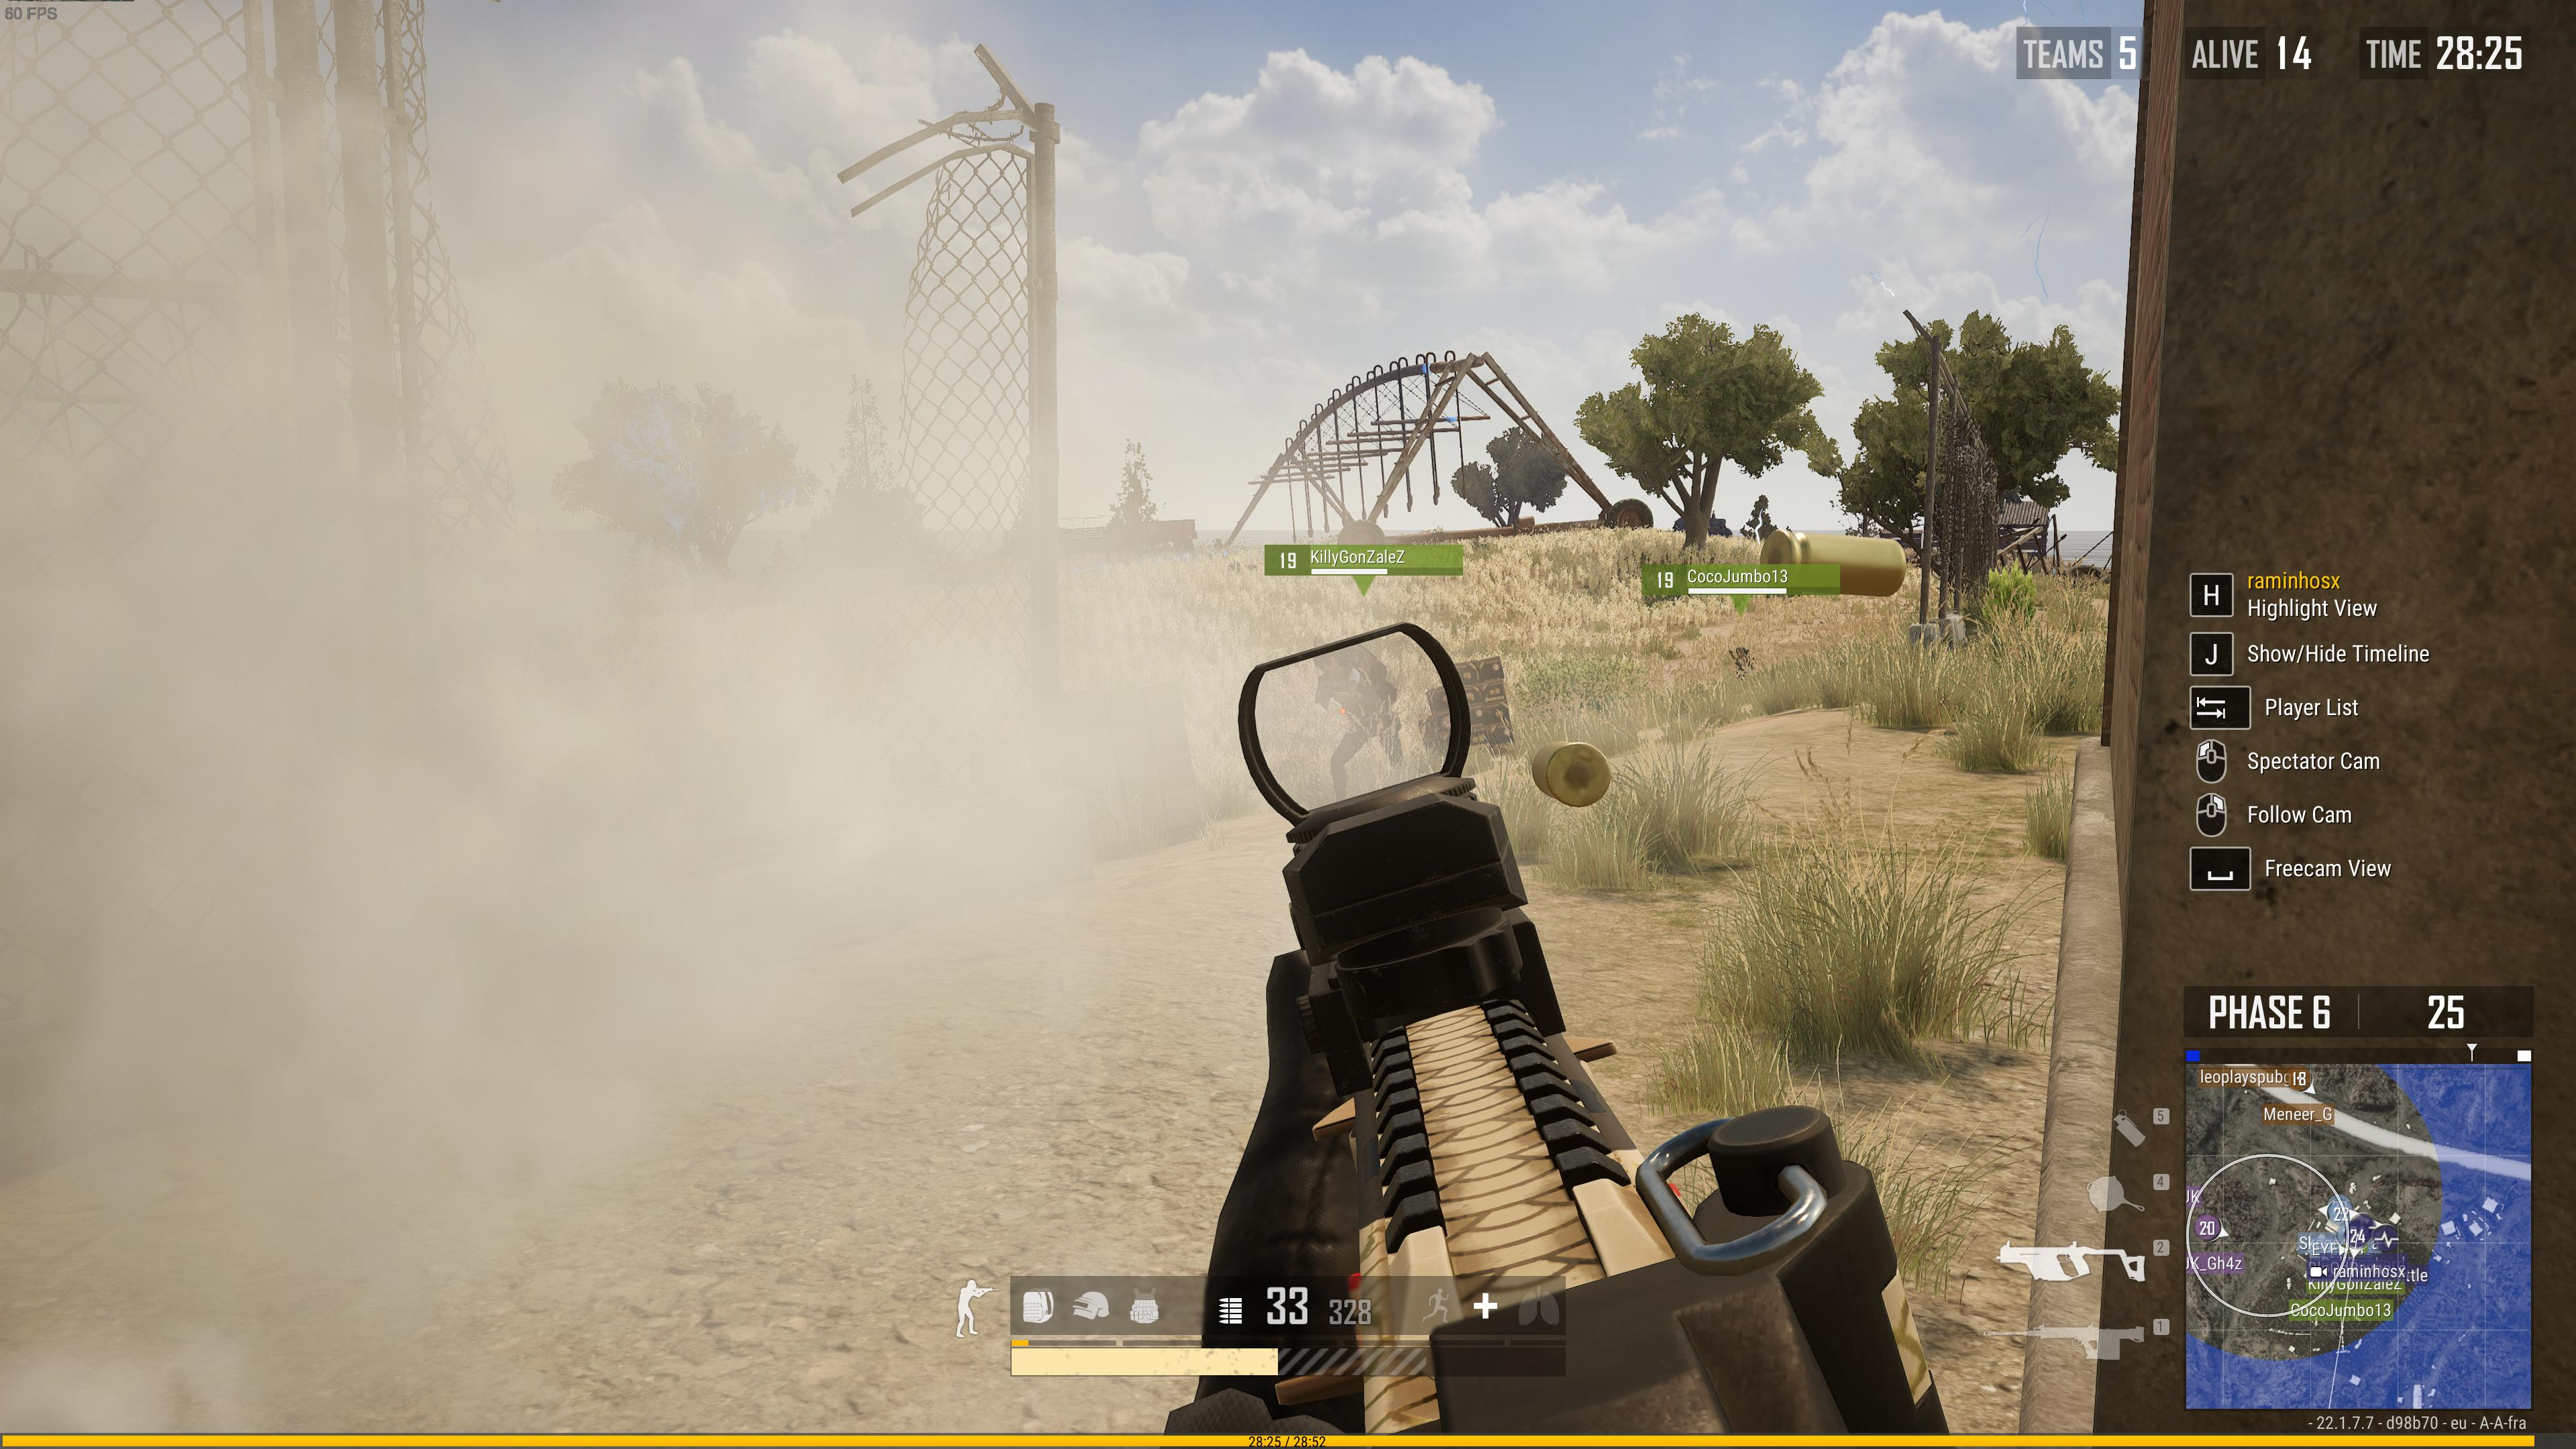enemy: (1302, 639, 1417, 782), (1727, 646, 1755, 679)
enemy_head: (1313, 651, 1339, 676), (1736, 648, 1743, 656)
